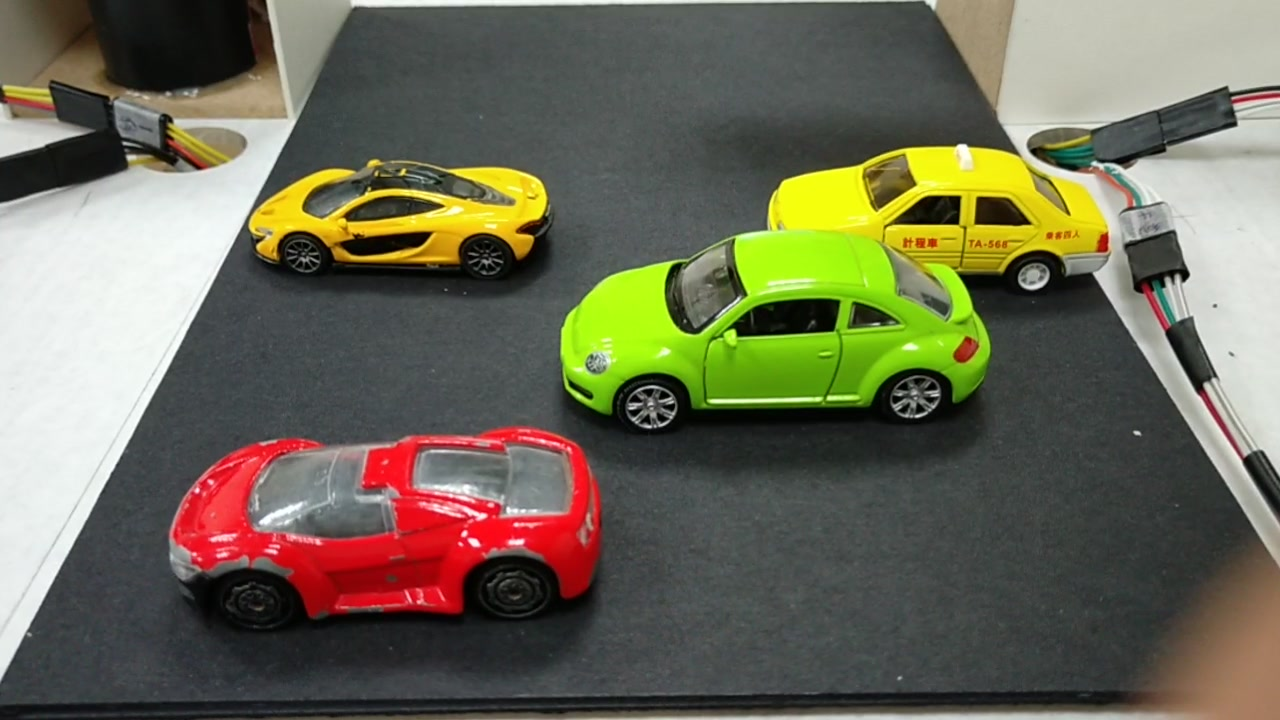car: (164, 441, 594, 623), (566, 253, 984, 411), (772, 148, 1109, 278), (241, 155, 557, 284)
